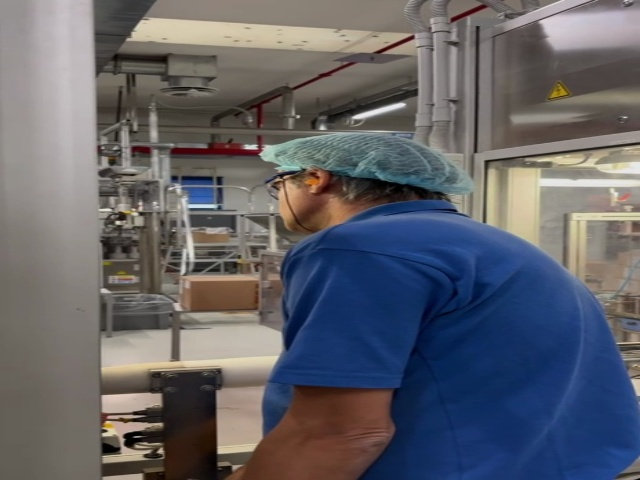Earplug: (302, 164, 331, 196)
Hairnet: (257, 134, 466, 192)
No_Helmet: (261, 134, 459, 174)
No_Vest: (285, 220, 640, 480)
Person: (262, 132, 640, 480)
Safety_Goggles: (265, 168, 305, 202)
